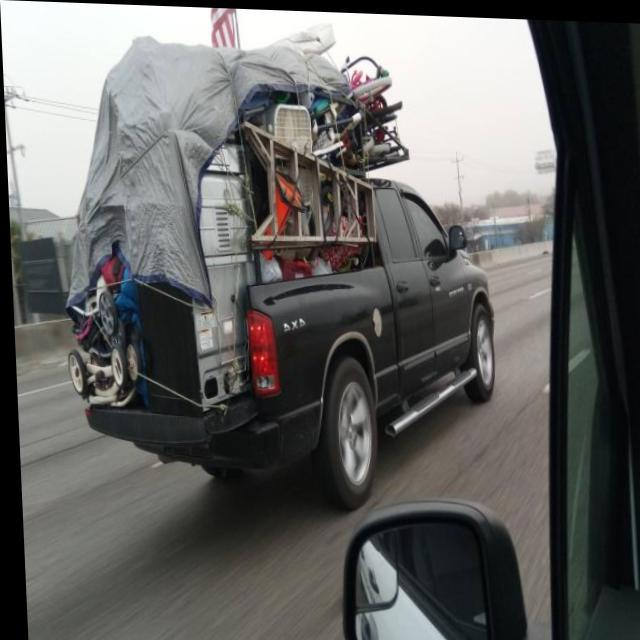uncovered: (62, 37, 412, 446)
